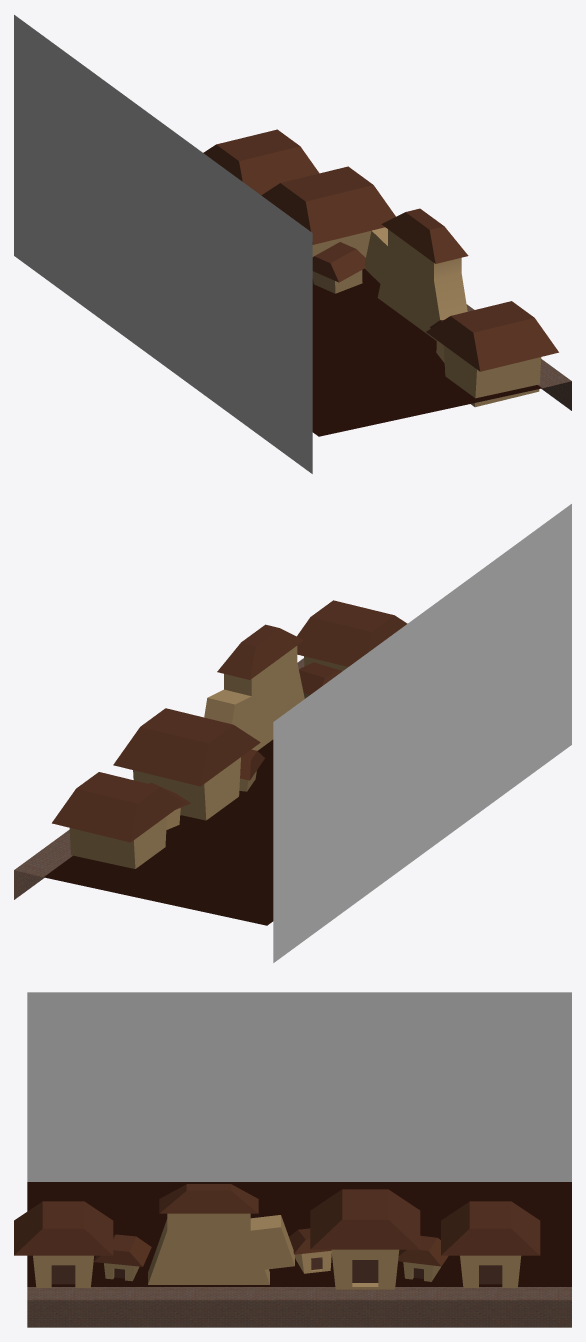
The model's file is LV1_Plat5.fbx.
The picture shows the model from 3 angles, top to bottom: view 1: azimuth 30°, elevation 25°; view 2: azimuth 150°, elevation 25°; view 3: azimuth 270°, elevation 25°; orthographic projection. The views are drawn at different scales.
Visible parts, largest first — view 1: SM_LV1_Plat5; view 2: SM_LV1_Plat5; view 3: SM_LV1_Plat5.
Boxes of the visible parts, <box> form: SM_LV1_Plat5: <box>14,15,571,473</box>; SM_LV1_Plat5: <box>14,504,571,962</box>; SM_LV1_Plat5: <box>14,992,571,1327</box>.
Size of the model in its own units: 902 by 802 by 1845.
